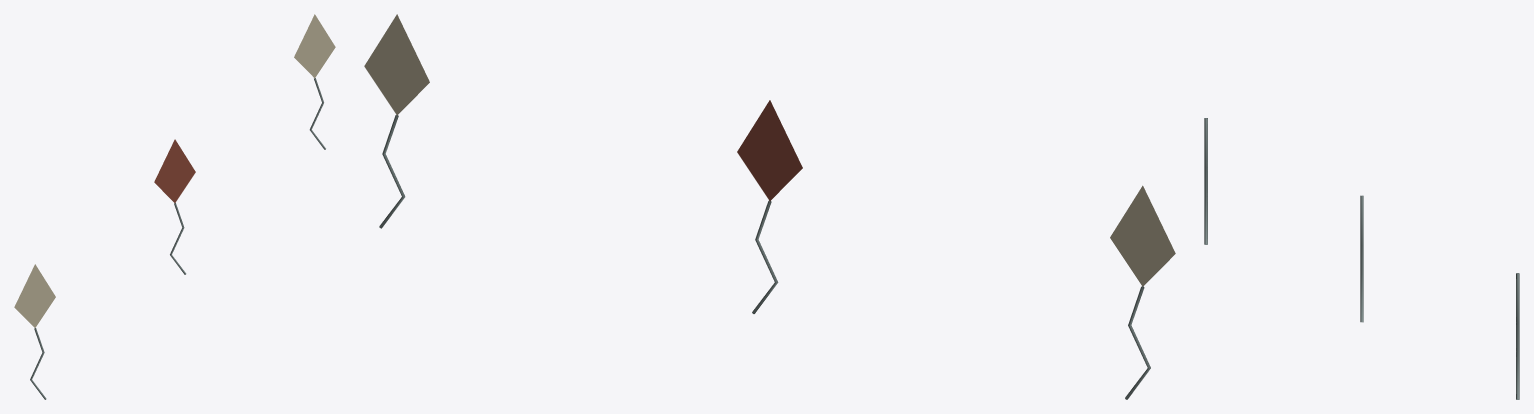
The model's file is season-qingming.glb.
3 views of the same model, side by side, from view 1: azimuth 30°, elevation 25°; view 2: azimuth 150°, elevation 25°; view 3: azimuth 270°, elevation 25° (orthographic). The views are drawn at different scales.
Parts seen in each view (by area): view 1: Season_qingming__RT_ExportPalette_0.720_0.000; view 2: Season_qingming__RT_ExportPalette_0.720_0.000; view 3: Season_qingming__RT_ExportPalette_0.720_0.000.
Boxes of the visible parts, x1,y1,x2,y2 form: Season_qingming__RT_ExportPalette_0.720_0.000: (14, 14, 335, 399); Season_qingming__RT_ExportPalette_0.720_0.000: (364, 14, 1175, 399); Season_qingming__RT_ExportPalette_0.720_0.000: (1204, 118, 1519, 399).
Bounding box in the file's own units: 4 × 2.06 × 1.62.
